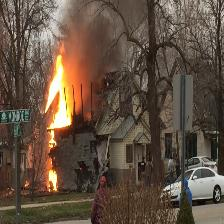fire: (47, 56, 69, 145)
smoke: (69, 6, 120, 63)
